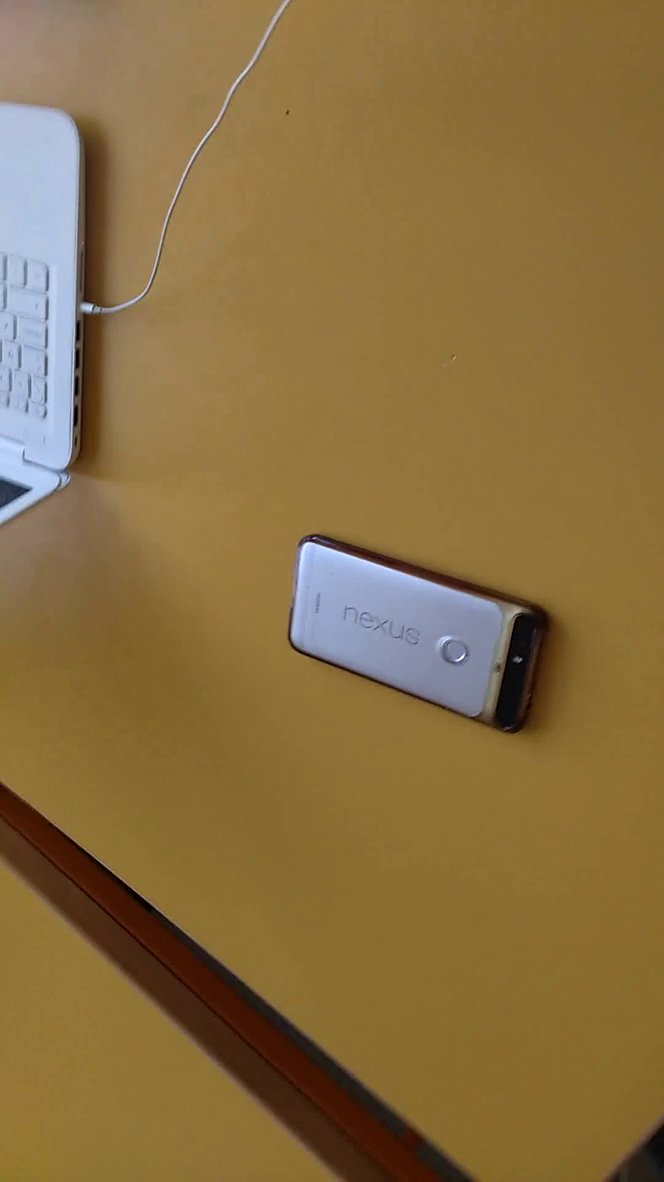phone: (270, 511, 571, 751)
